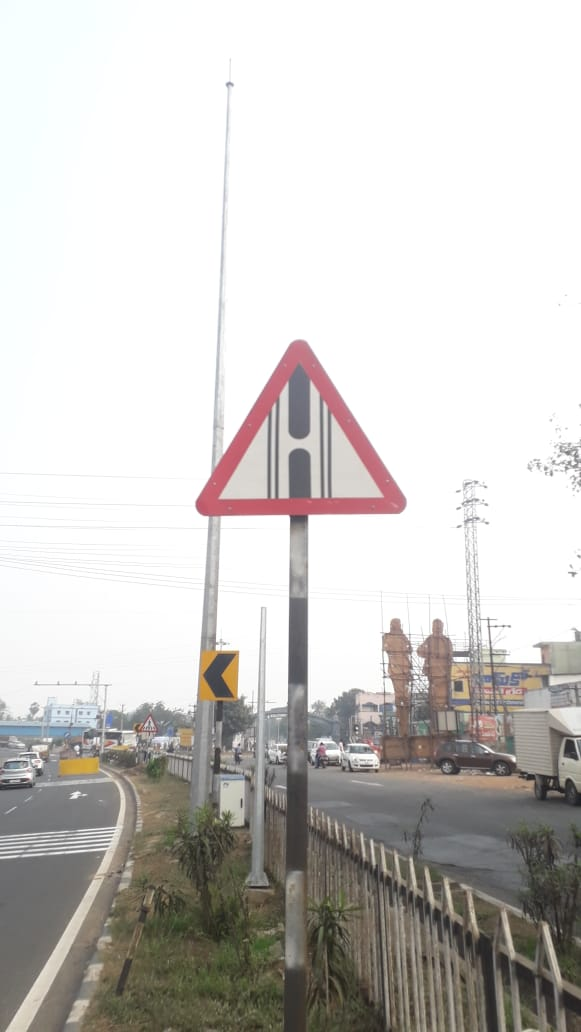highway go straight: (193, 331, 409, 529)
